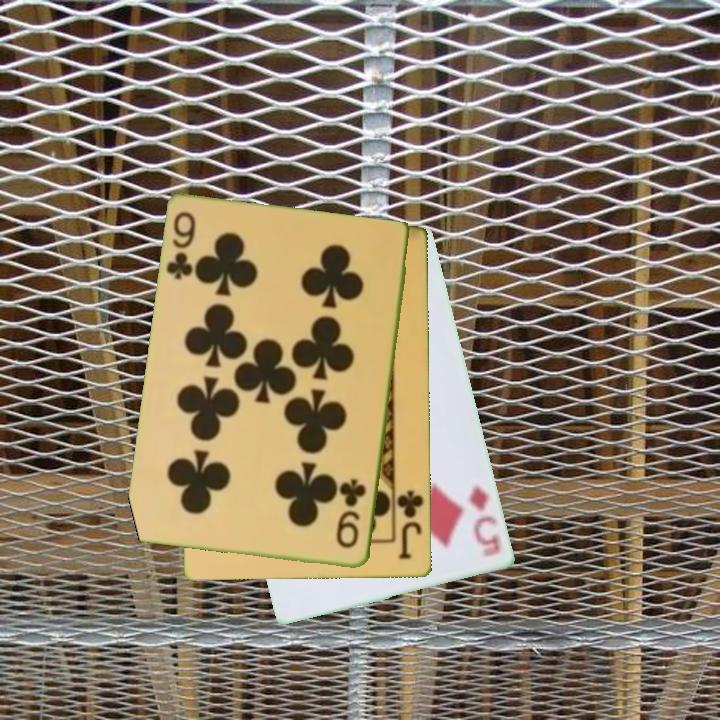5d: (466, 482, 503, 560)
9c: (333, 476, 370, 552), (163, 208, 199, 283)
Jc: (393, 487, 426, 562)
